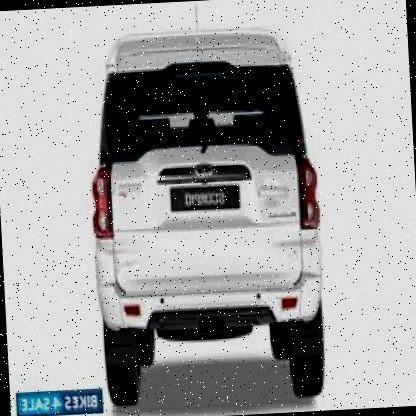car: (76, 14, 338, 412)
